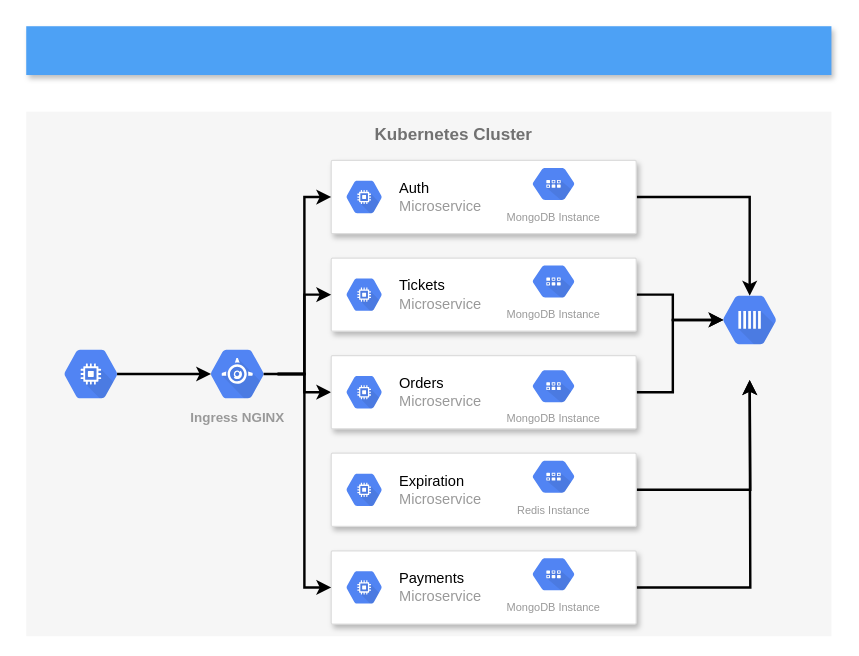
Image size: 859x656. Some labels were removed from this diagram. The centre of each missing label's shape, as x and y in pixels:
"Architecture: Ticketing Application" belongs at point (429, 52).
"NATS Streaming Server" belongs at point (749, 319).
"NextJS Client App" belongs at point (90, 373).
